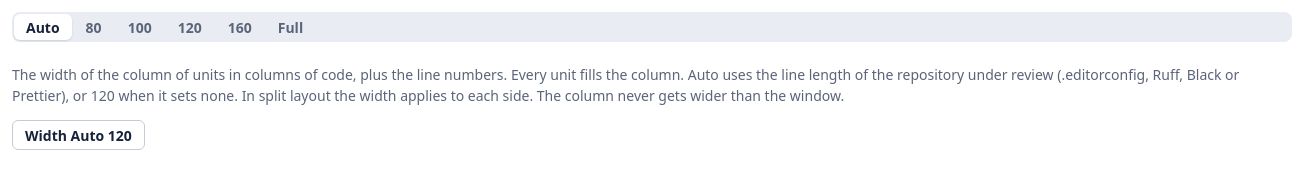
unit width controls › keeps Settings and the review bar in sync and remembers the choice
Click the button "Width Auto 120" at [78, 135], box x1=12 y1=120 x2=145 y2=150
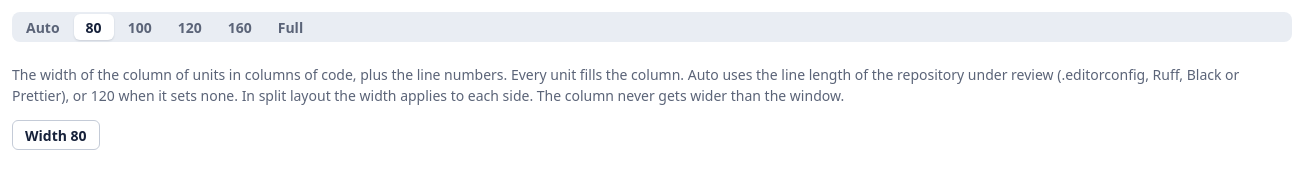
Result: the tab "80" is selected at x1=74 y1=14 x2=114 y2=40
Click the tab "Full" at [290, 27], box x1=266 y1=14 x2=315 y2=40
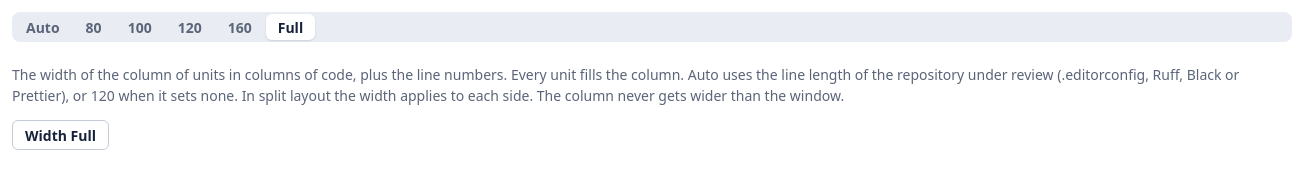
Result: the button "Width Full" has attribute title="Unit width: Full, all the available space. Click for the next width." at x1=12 y1=120 x2=109 y2=150
